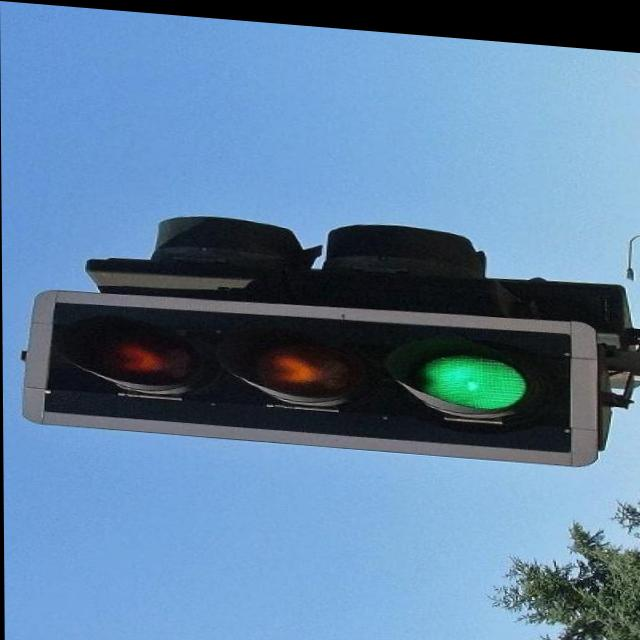green light: (44, 287, 545, 443)
